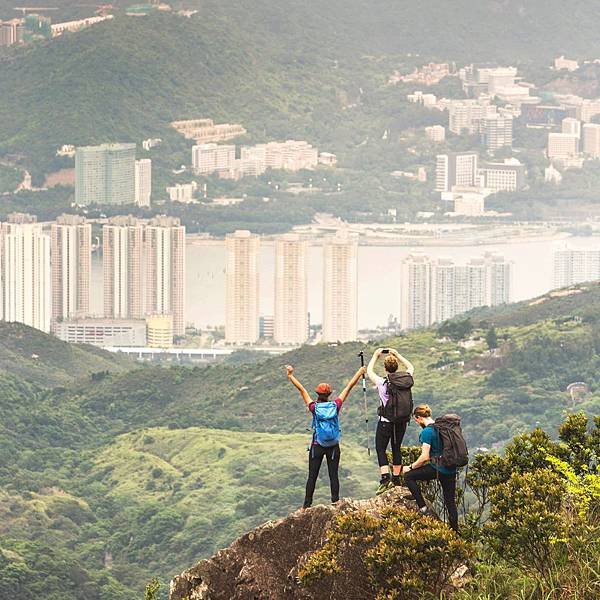people: (409, 407, 471, 531), (367, 349, 412, 482), (303, 384, 344, 506)
